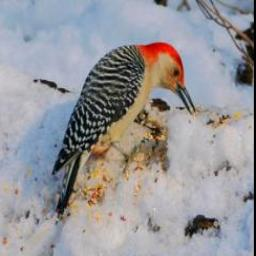Woodpecker: (48, 40, 197, 224)
